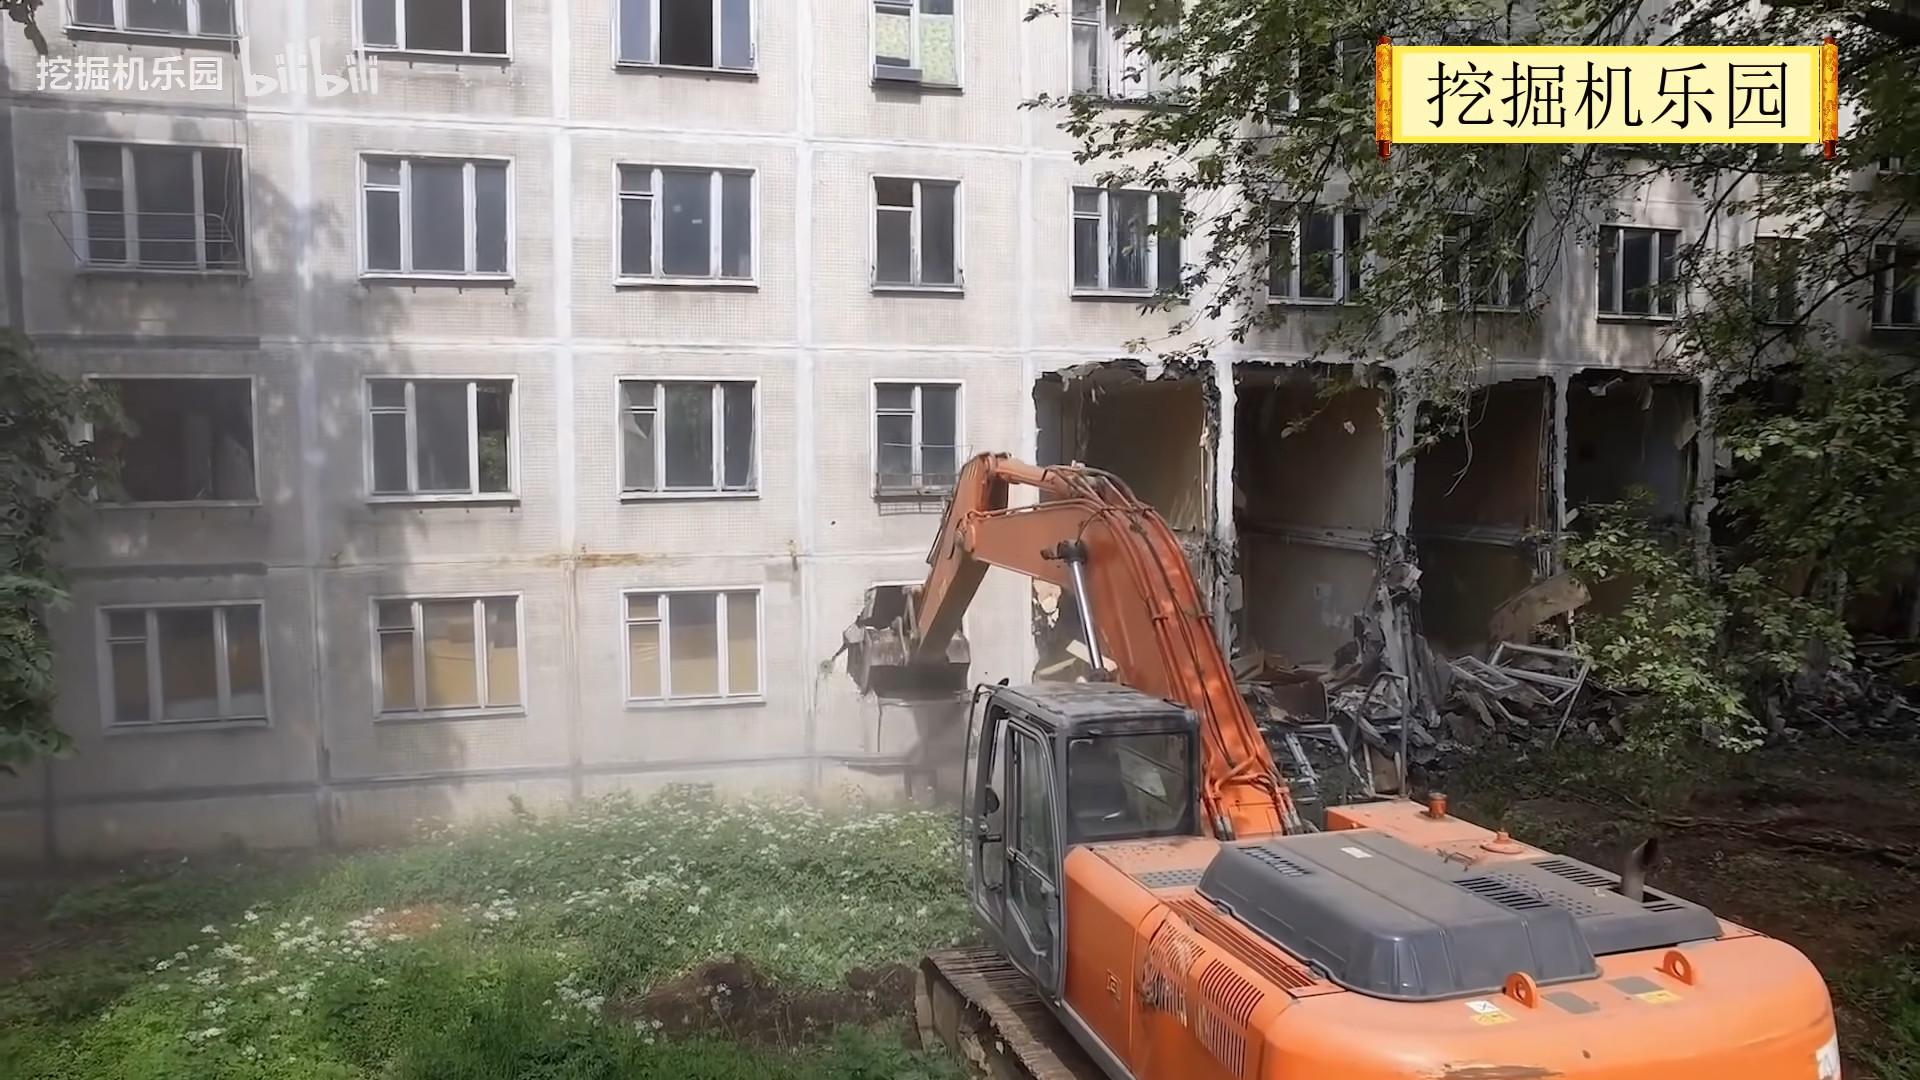excavator: (833, 430, 1859, 1080)
